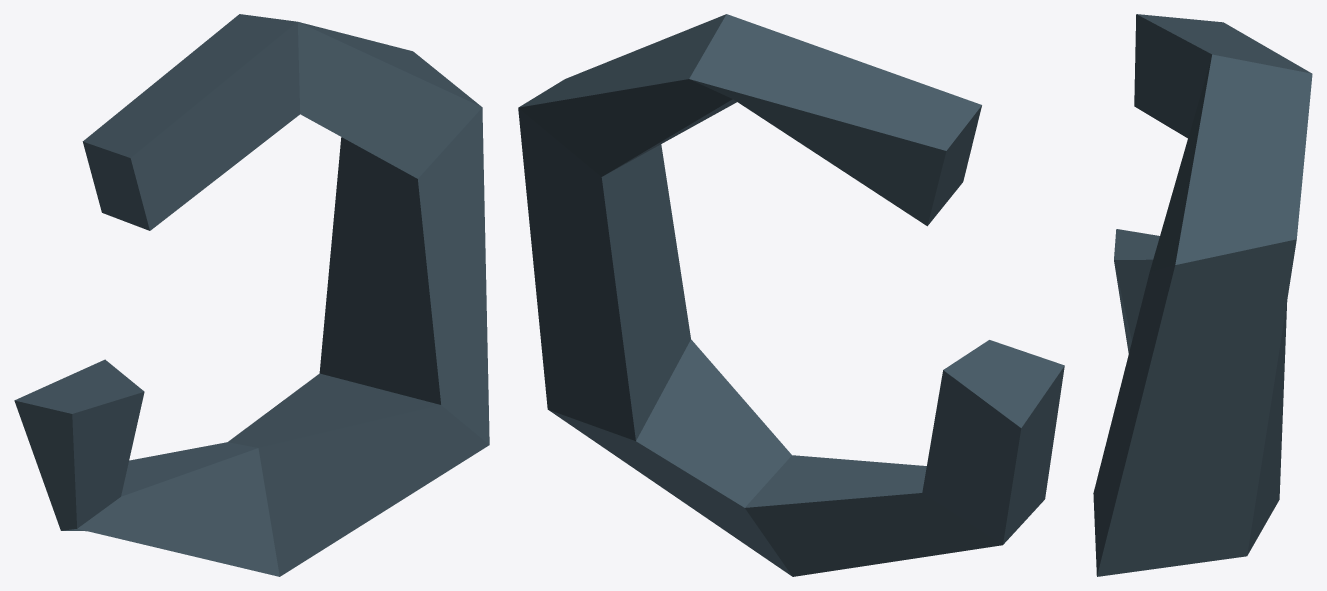
The model's file is lowercase-i.glb.
3 views of the same model, side by side, from view 1: azimuth 30°, elevation 25°; view 2: azimuth 150°, elevation 25°; view 3: azimuth 270°, elevation 25° (orthographic). The views are drawn at different scales.
Size of the model in its own units: 0.231 by 0.2516 by 0.0912.
